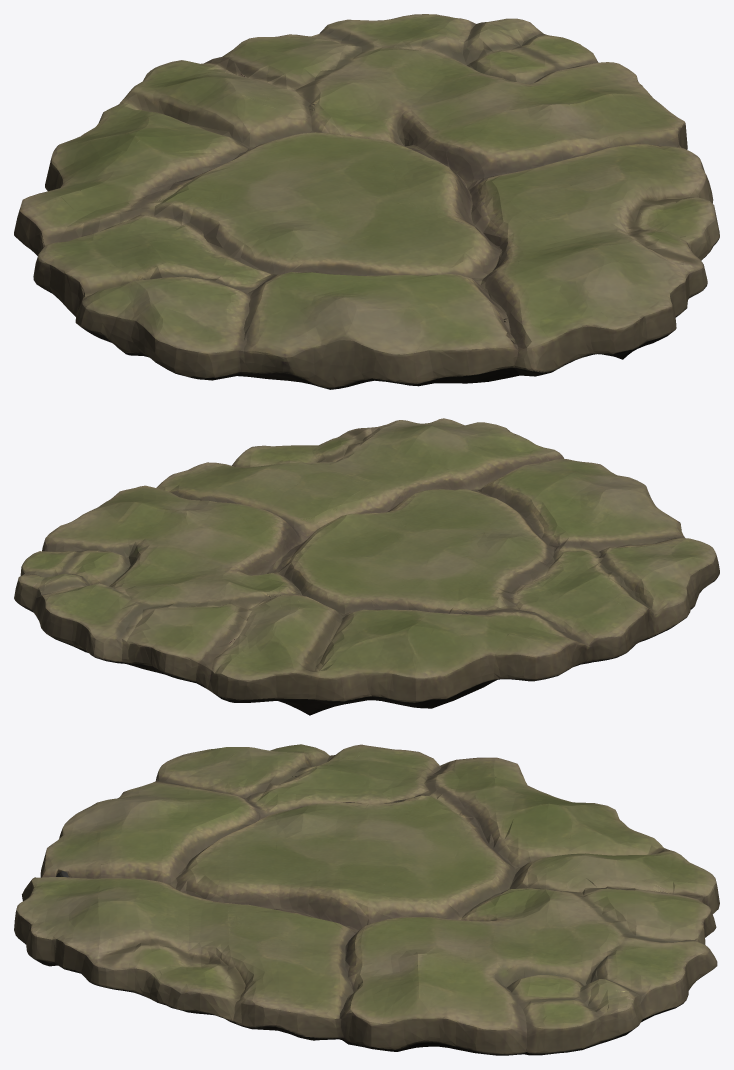
3 views of the same model, one above another, from view 1: azimuth 30°, elevation 25°; view 2: azimuth 150°, elevation 25°; view 3: azimuth 270°, elevation 25° (orthographic). The views are drawn at different scales.
Parts seen in each view (by area): view 1: world; view 2: world; view 3: world.
Part boxes in pixels (x1,y1,x2,y2): world: (14,14,719,389); world: (14,418,719,715); world: (14,744,719,1055).
Bounding box in the file's own units: 0.9624 × 0.1121 × 0.9902.
1 material, 1 textured.
